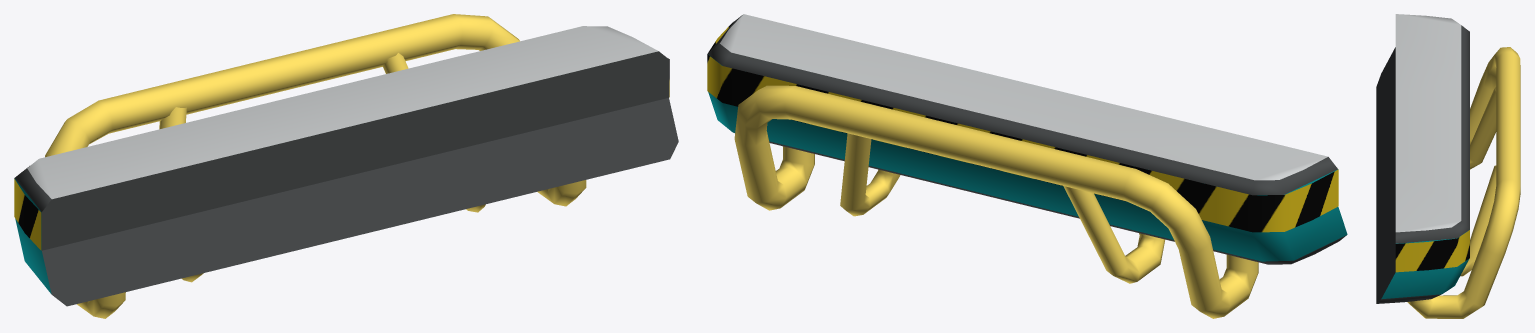
Rendered from Car_14_RearBumper_Cool.fbx.
3 renders of one model, left to right at view 1: azimuth 30°, elevation 25°; view 2: azimuth 150°, elevation 25°; view 3: azimuth 270°, elevation 25°, orthographic. The views are drawn at different scales.
Parts seen in each view (by area): view 1: Car_14_RearBumper_Cool; view 2: Car_14_RearBumper_Cool; view 3: Car_14_RearBumper_Cool.
Boxes of the visible parts, bbox=[...] form: Car_14_RearBumper_Cool: bbox=[14, 14, 678, 318]; Car_14_RearBumper_Cool: bbox=[707, 14, 1347, 318]; Car_14_RearBumper_Cool: bbox=[1376, 14, 1520, 318].
Size of the model in its own units: 185 by 49.94 by 45.69.
